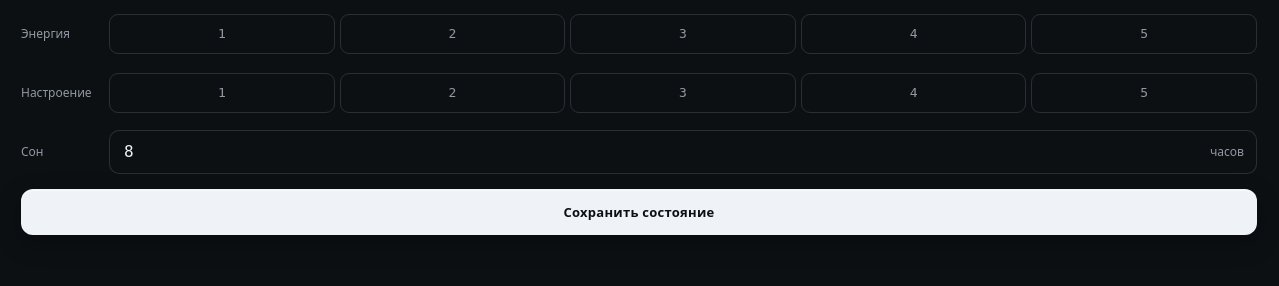
Test: DailyStateForm › submits optional context including fractional sleep hours converted to minutes
Click the button named "Энергия 4" at (914, 34), box 801,14 -> 1026,54
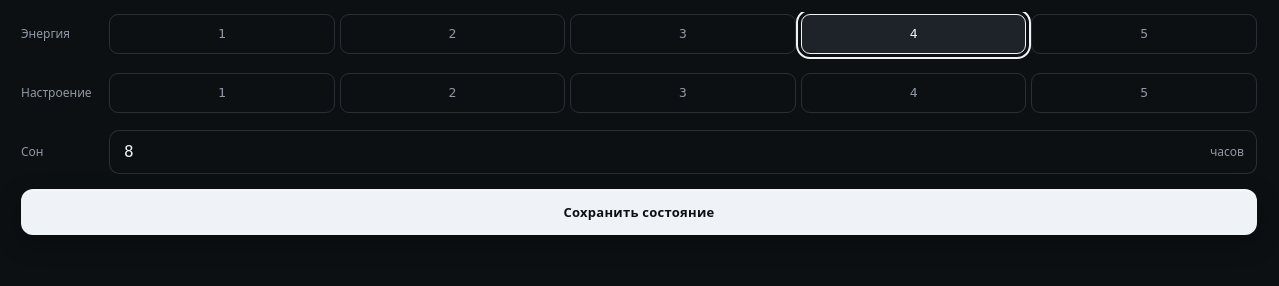
Click the button named "Настроение 3" at (683, 93), box 570,73 -> 796,113
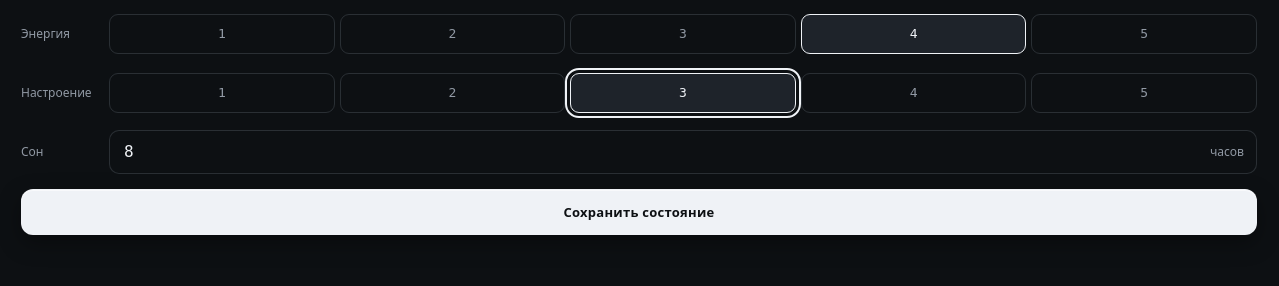
Replace the text in the number field labelled "Сон часов" with "7.5" at (666, 152), box 122,139 -> 1210,165
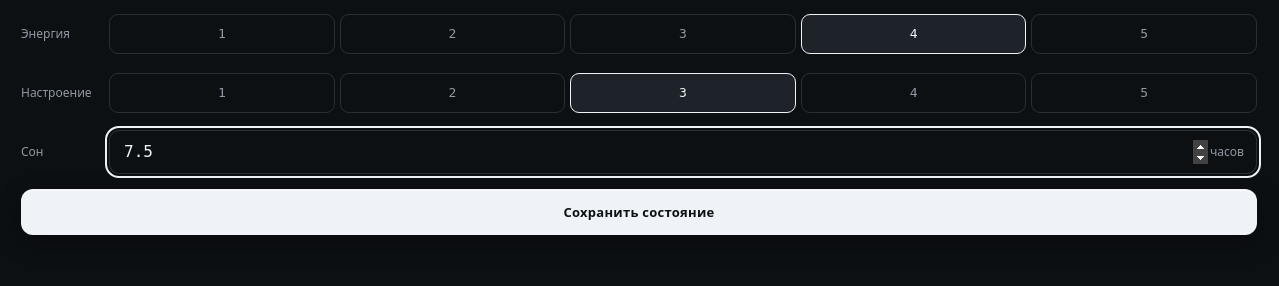
Click the button "Сохранить состояние" at (639, 212), box 21,189 -> 1257,235
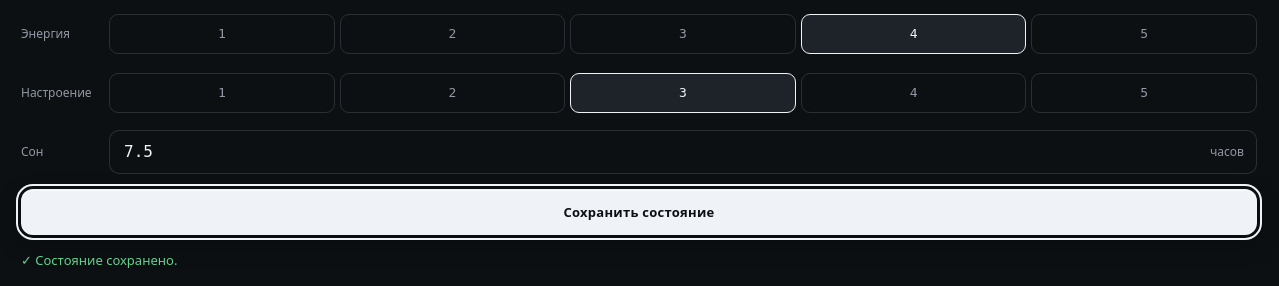
Check: the message shows "Состояние сохранено", box 21,251 -> 177,269
